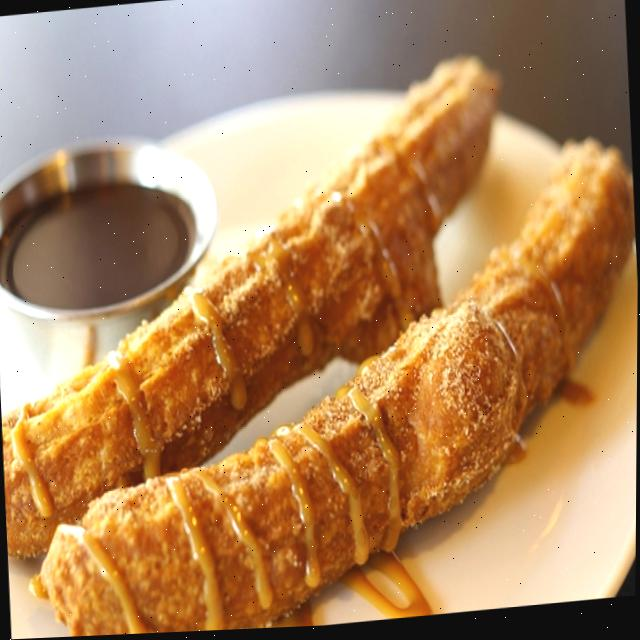炸货点心: (32, 43, 640, 639)
